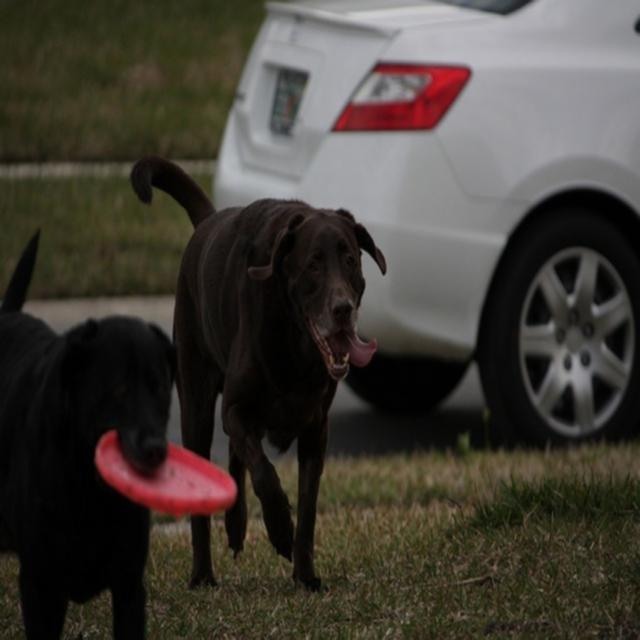car: (210, 0, 639, 450)
dog: (129, 153, 382, 592), (0, 219, 179, 632)
